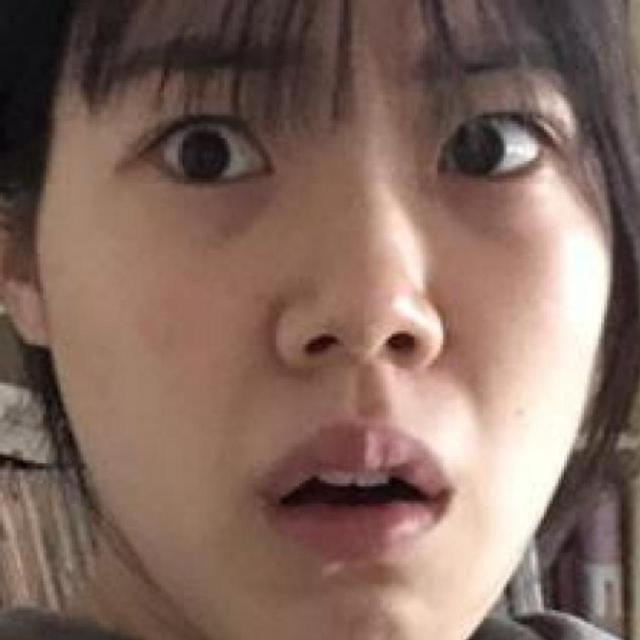surprised: (15, 30, 640, 620)
